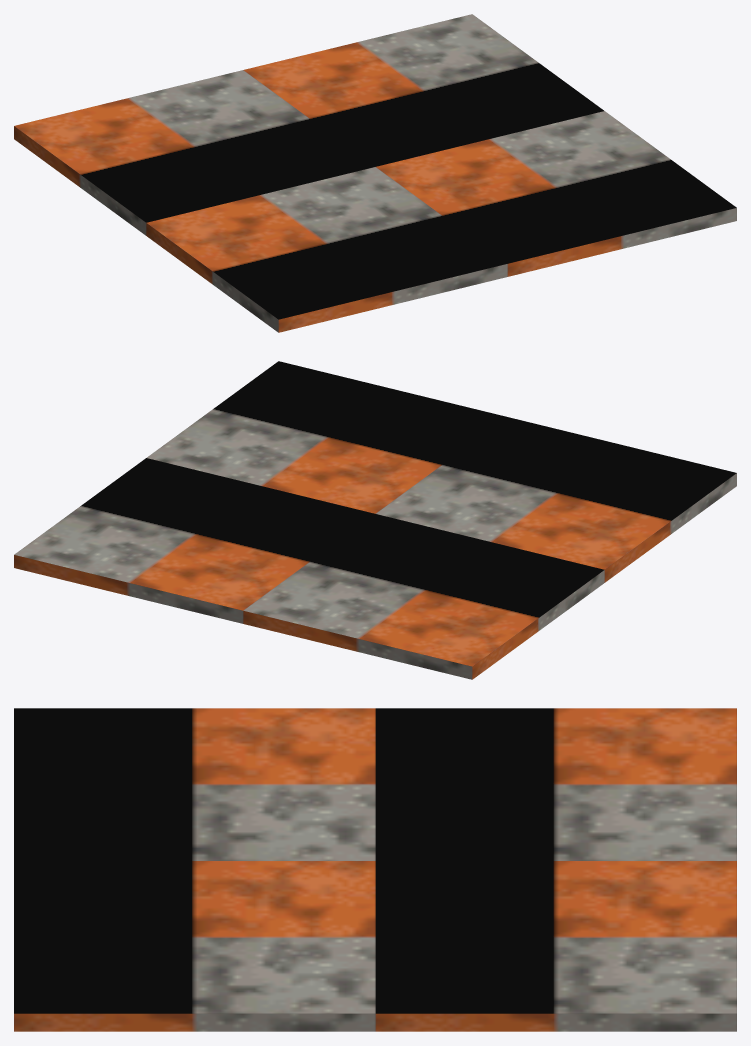
Rendered from SM_ground_dirt.fbx.
The picture shows the model from 3 angles, top to bottom: view 1: azimuth 30°, elevation 25°; view 2: azimuth 150°, elevation 25°; view 3: azimuth 270°, elevation 25°; orthographic projection. The views are drawn at different scales.
Parts seen in each view (by area): view 1: ground_dirt; view 2: ground_dirt; view 3: ground_dirt.
Boxes of the visible parts, <box> form: ground_dirt: <box>14,14,736,332</box>; ground_dirt: <box>14,361,736,679</box>; ground_dirt: <box>14,708,736,1031</box>.
Bounding box in the file's own units: 4 × 0.11 × 4.
